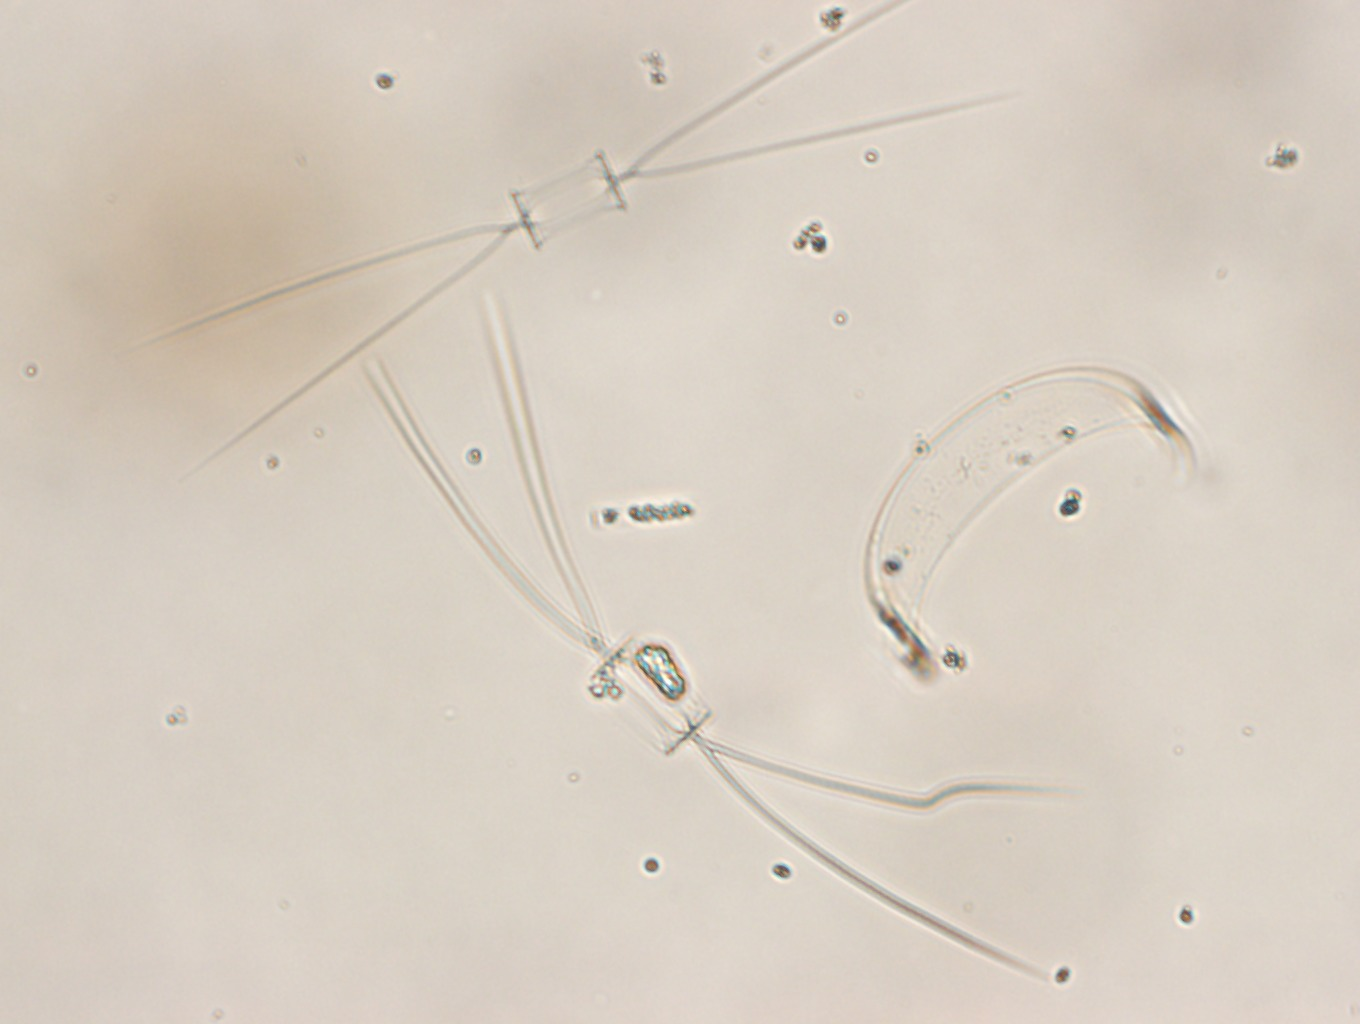chaetoceros: (362, 278, 1066, 979), (135, 1, 1019, 479)
